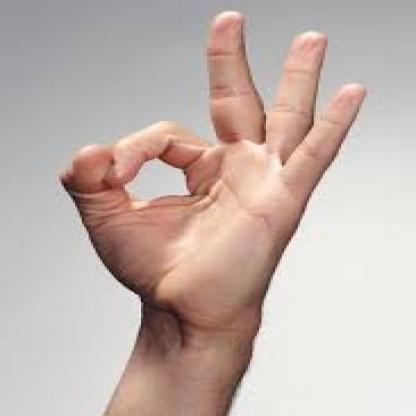ok: (57, 10, 372, 322)
